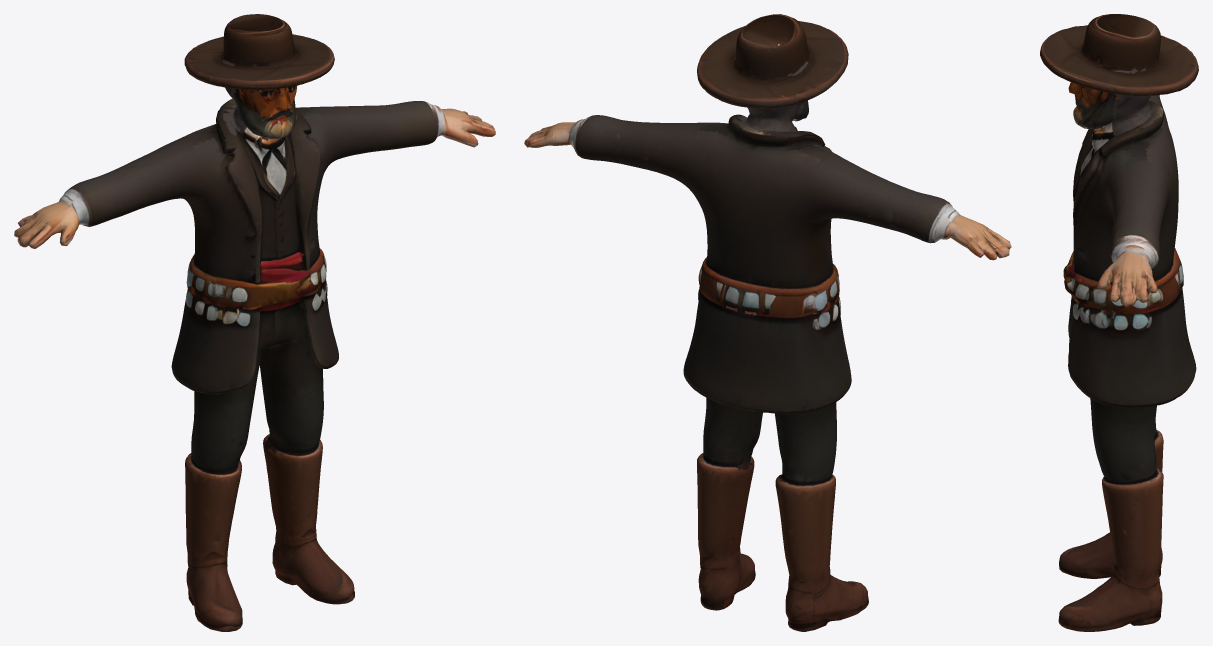
Rendered from don_rufino.glb.
The picture shows the model from 3 angles, left to right: view 1: azimuth 30°, elevation 25°; view 2: azimuth 150°, elevation 25°; view 3: azimuth 270°, elevation 25°; orthographic projection.
Visible parts, largest first — view 1: don_rufino; view 2: don_rufino; view 3: don_rufino.
Part boxes in pixels (x1=…): don_rufino: x1=14, y1=14, x2=495, y2=631; don_rufino: x1=524, y1=14, x2=1011, y2=631; don_rufino: x1=1040, y1=14, x2=1198, y2=631.
Bounding box in the file's own units: 1.55 × 1.8 × 0.449.
1 material, 1 textured.
